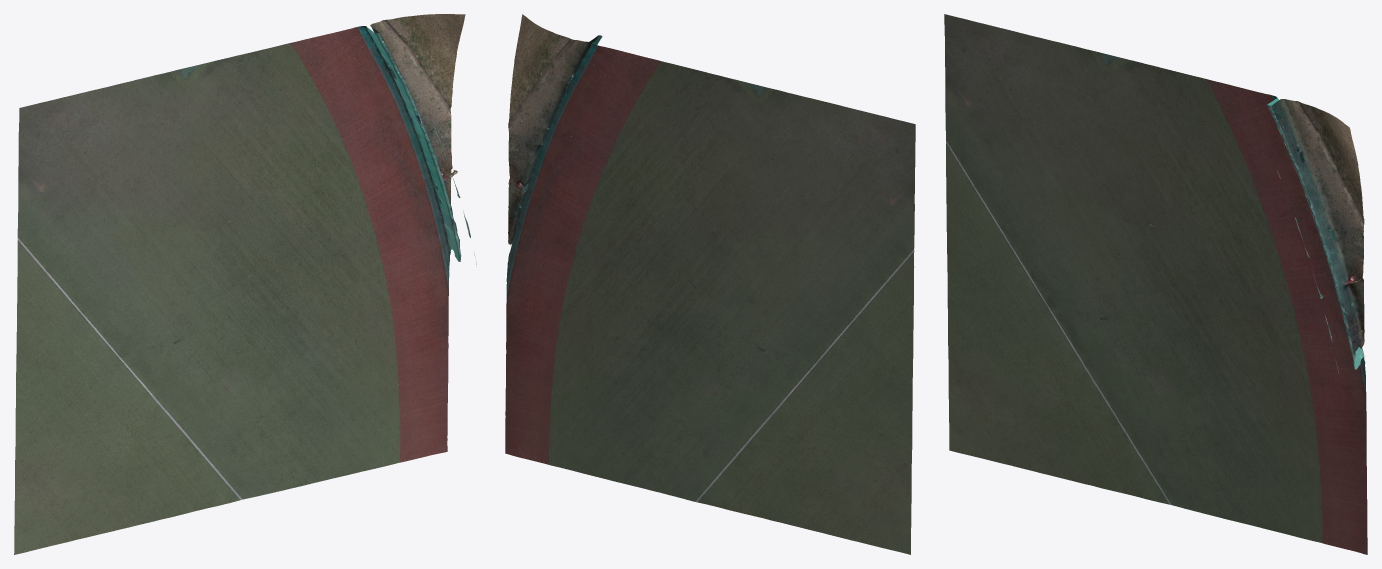
Rendered from Tile_+018_+007.fbx.
3 views of the same model, side by side, from view 1: azimuth 30°, elevation 25°; view 2: azimuth 150°, elevation 25°; view 3: azimuth 330°, elevation 25° (orthographic). The views are drawn at different scales.
Parts seen in each view (by area): view 1: DefaultName; view 2: DefaultName; view 3: DefaultName.
Boxes of the visible parts, left/top/right/bottom form: DefaultName: left=14, top=14, right=476, bottom=554; DefaultName: left=505, top=14, right=915, bottom=554; DefaultName: left=944, top=14, right=1367, bottom=554.
Bounding box in the file's own units: 22.54 × 22.54 × 3.07.
